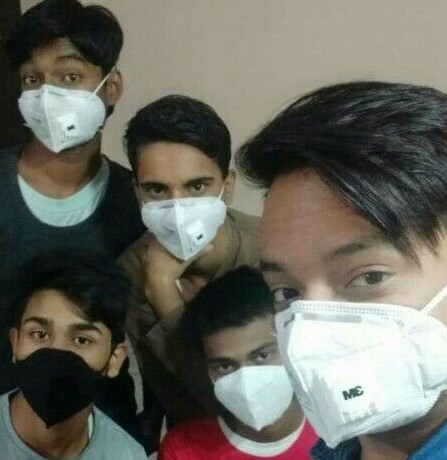face_with_mask: (259, 94, 442, 447), (9, 251, 128, 431), (124, 94, 235, 265), (185, 263, 294, 435), (7, 0, 123, 154)
